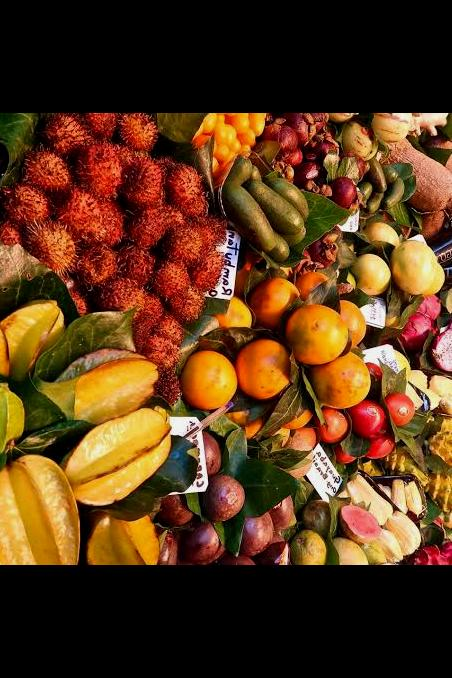chom_chom: (86, 179, 204, 313)
